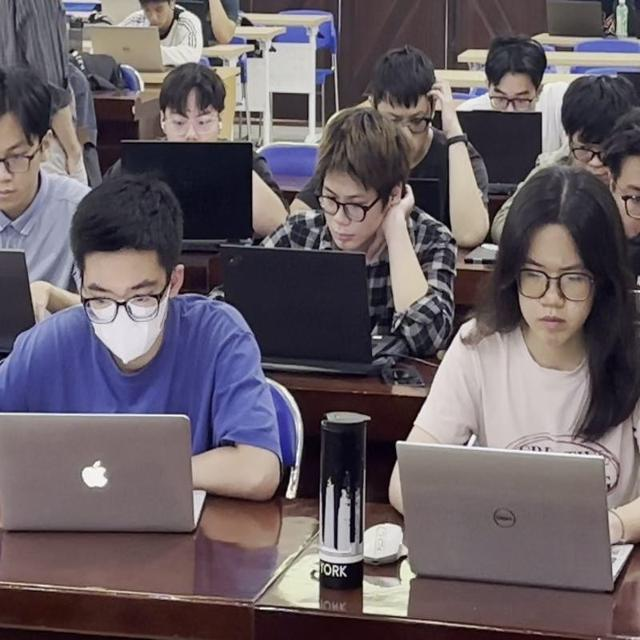Looking away: (492, 166, 627, 348), (66, 185, 195, 374), (318, 121, 406, 255), (368, 49, 452, 152), (0, 79, 57, 222), (556, 71, 627, 171), (152, 67, 237, 147), (482, 35, 553, 123), (142, 0, 194, 26)
